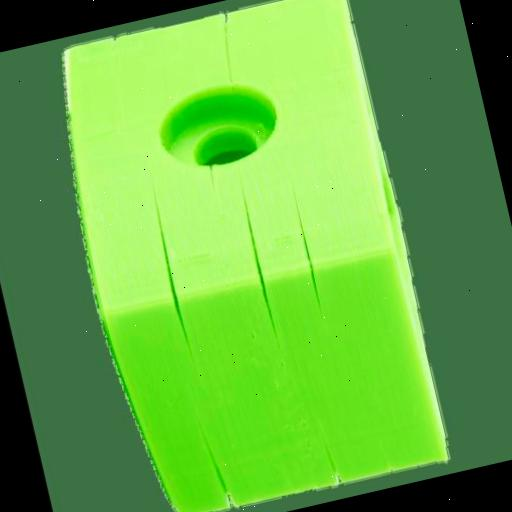cracks: (136, 180, 211, 357), (228, 186, 303, 344), (278, 184, 345, 300)
